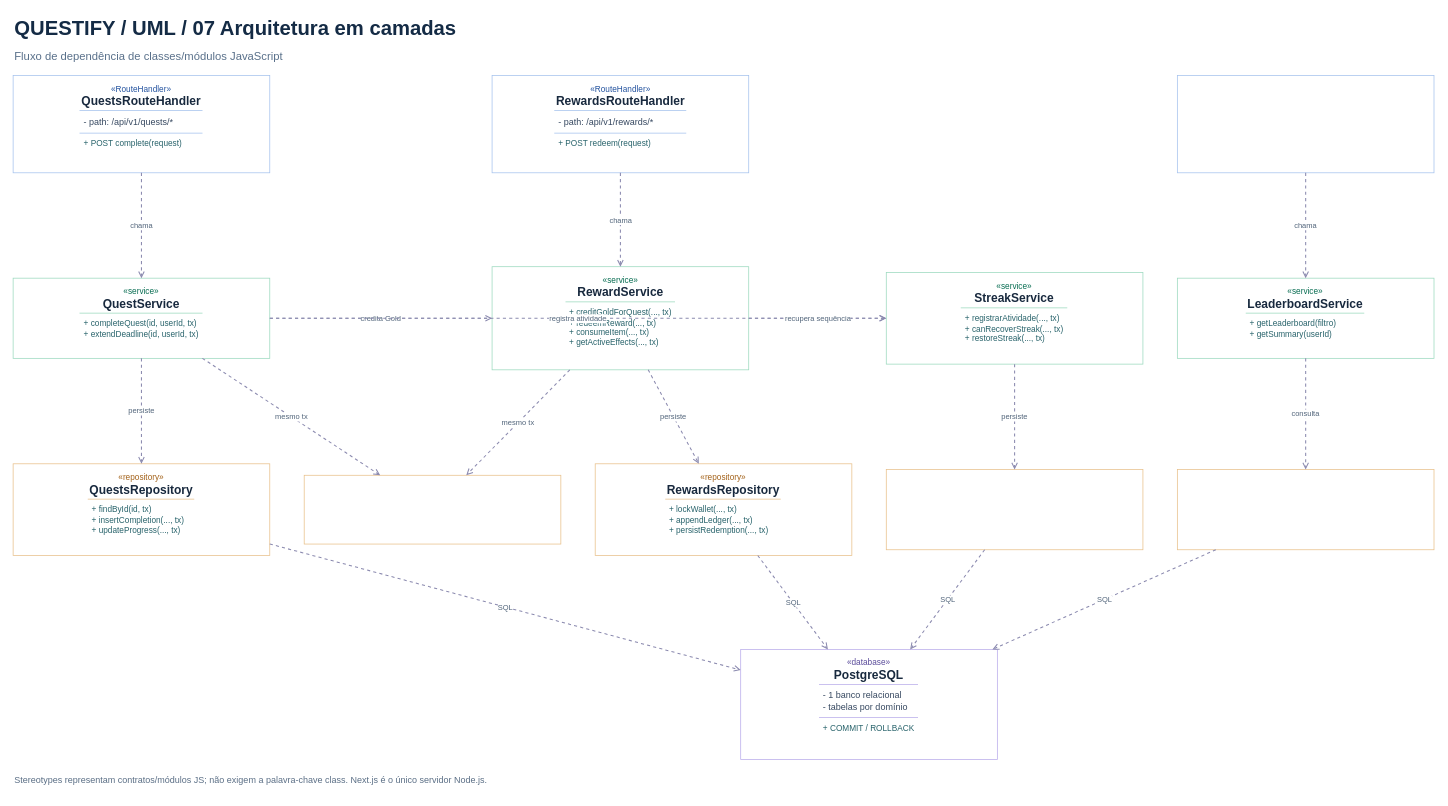
Image size: 1448x806. Some labels were removed from this diagram. Each missing label, with the centre of its shape:
«infra» TransactionManager + withTransaction(callback): (x=432, y=509)
«repository» LeaderboardRepository + queryRanking(filtro) + querySummary(userId): (x=1305, y=509)
«repository» StreakRepository + getByUserId(..., tx) + insertActivity(..., tx): (x=1014, y=509)
«RouteHandler» AnalyticsRouteHandler - path: /api/v1/leaderboards + GET(request): (x=1305, y=124)
